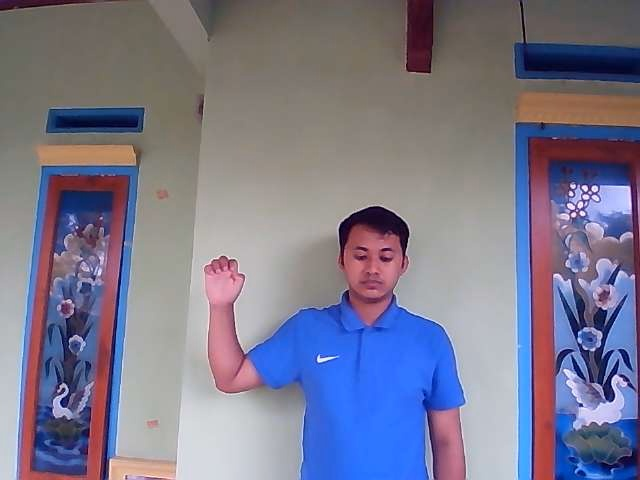E: (202, 254, 247, 308)
